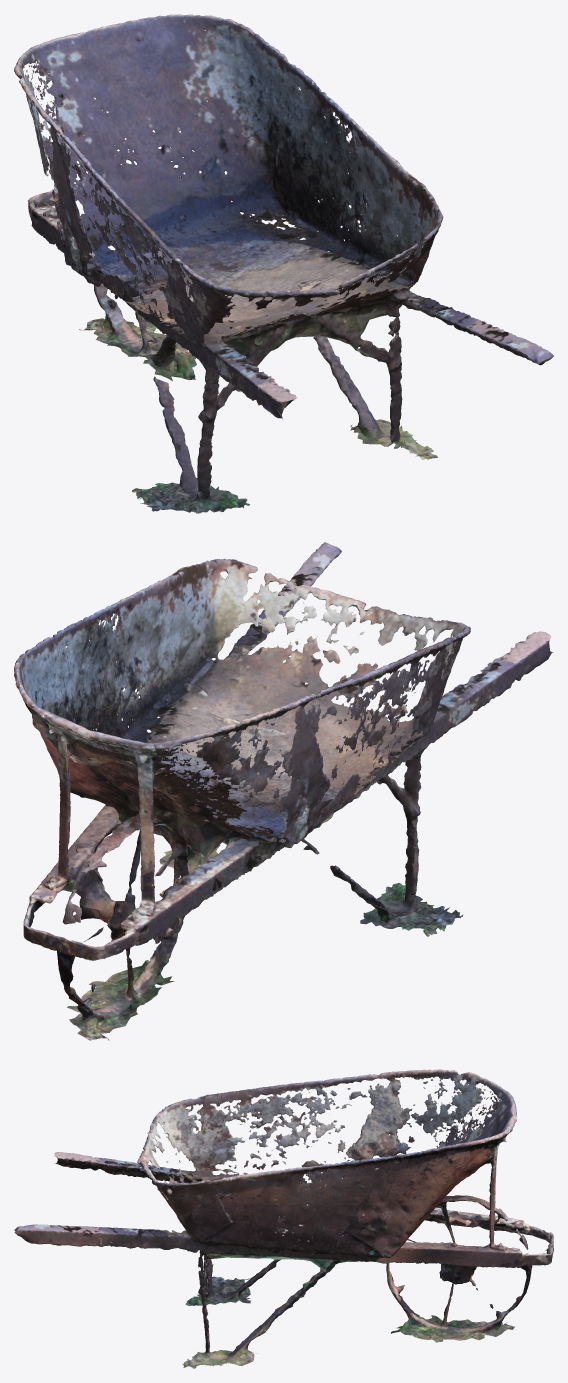
File: free_rusty_wheel_barrow.glb
The picture shows the model from 3 angles, top to bottom: view 1: azimuth 30°, elevation 25°; view 2: azimuth 150°, elevation 25°; view 3: azimuth 270°, elevation 25°; orthographic projection. The views are drawn at different scales.
Visible parts, largest first — view 1: texturedMesh; view 2: texturedMesh; view 3: texturedMesh.
Boxes of the visible parts, left/top/right/bottom form: texturedMesh: left=14, top=14, right=553, bottom=513; texturedMesh: left=14, top=542, right=553, bottom=1040; texturedMesh: left=14, top=1069, right=553, bottom=1368.
Size of the model in its own units: 2.91 by 3.19 by 6.92.
1 material, 1 textured.
